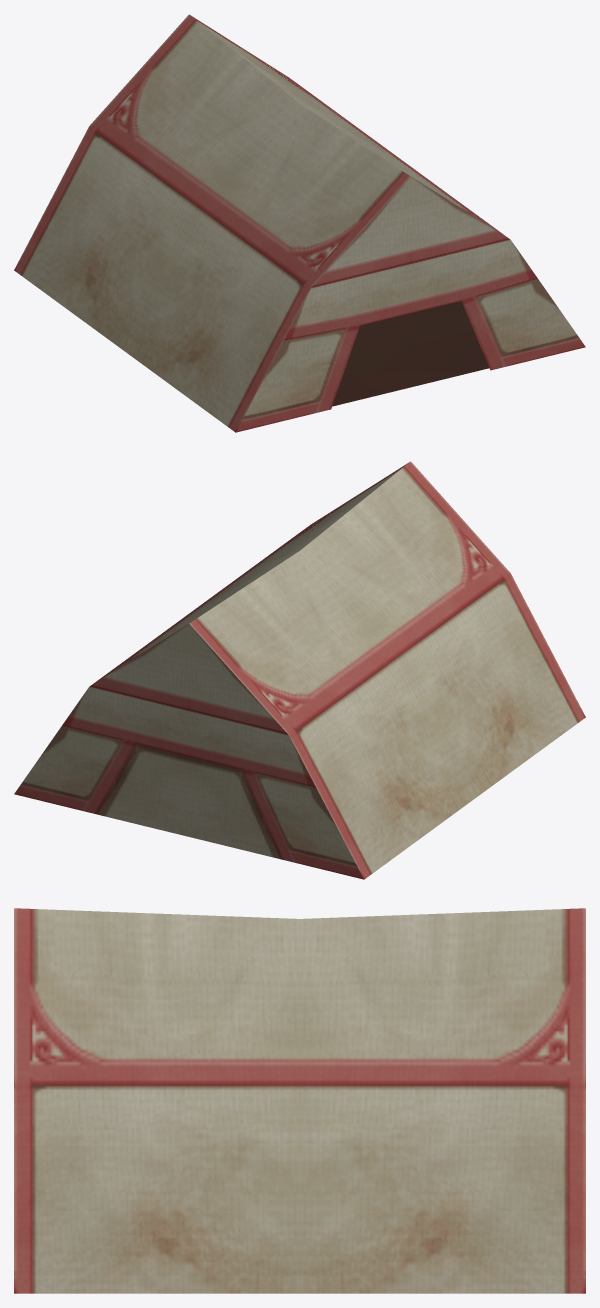
The picture shows the model from 3 angles, top to bottom: view 1: azimuth 30°, elevation 25°; view 2: azimuth 150°, elevation 25°; view 3: azimuth 270°, elevation 25°; orthographic projection. The views are drawn at different scales.
Visible parts, largest first — view 1: zp03_L; view 2: zp03_L; view 3: zp03_L.
Boxes of the visible parts, x1,y1,x2,y2 form: zp03_L: (14, 14, 585, 432); zp03_L: (14, 461, 585, 879); zp03_L: (14, 908, 585, 1293).
Size of the model in its own units: 3.69 by 2.15 by 4.04.
